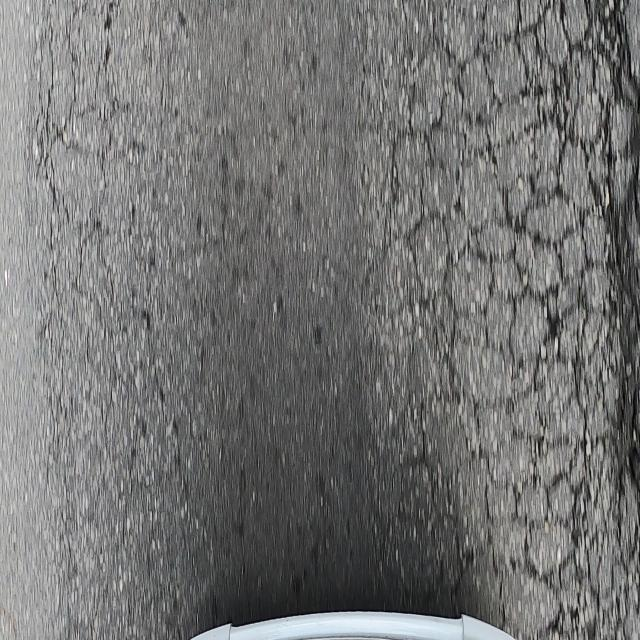Retak-Buaya: (361, 0, 640, 640), (31, 0, 131, 305)
